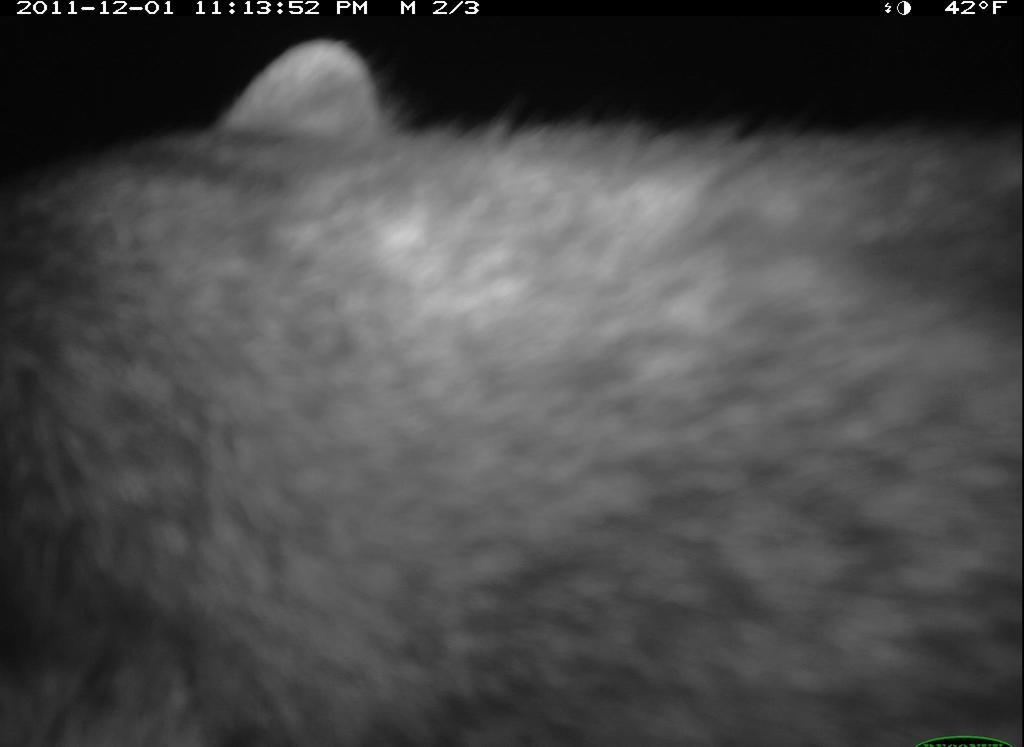raccoon: (8, 33, 1022, 745)
